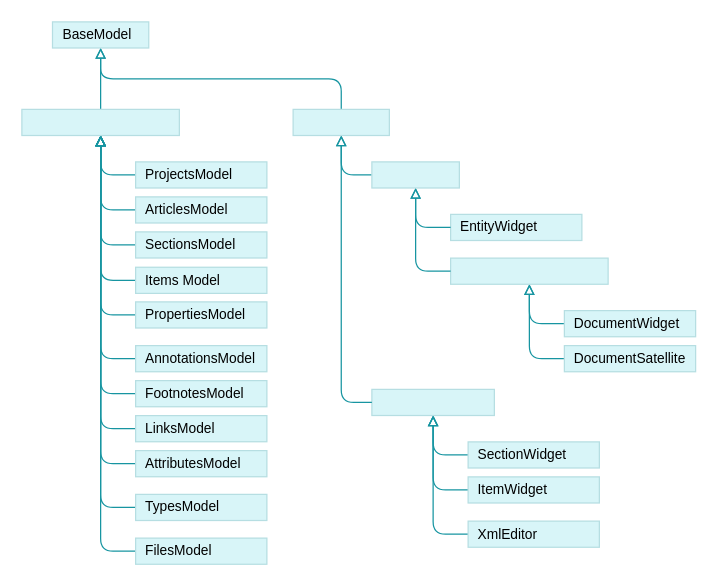
Some shapes in this 718 by 586 pixel diagram are drawn without their labels. The centre of each missing label's shape, as x and y in pixels:
BaseDocument: point (432, 402)
BaseDocumentModel: point (100, 122)
BaseDocumentPart: point (528, 270)
BaseForm: point (415, 174)
BaseWidget: point (340, 122)
